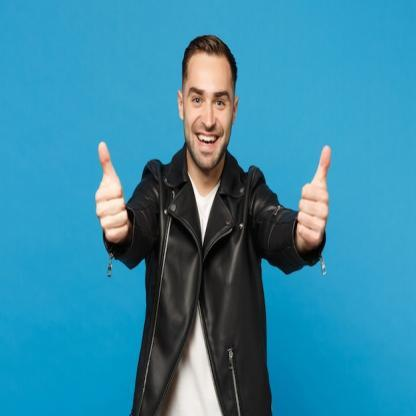thumb_up: (288, 140, 334, 257), (90, 134, 134, 247)
